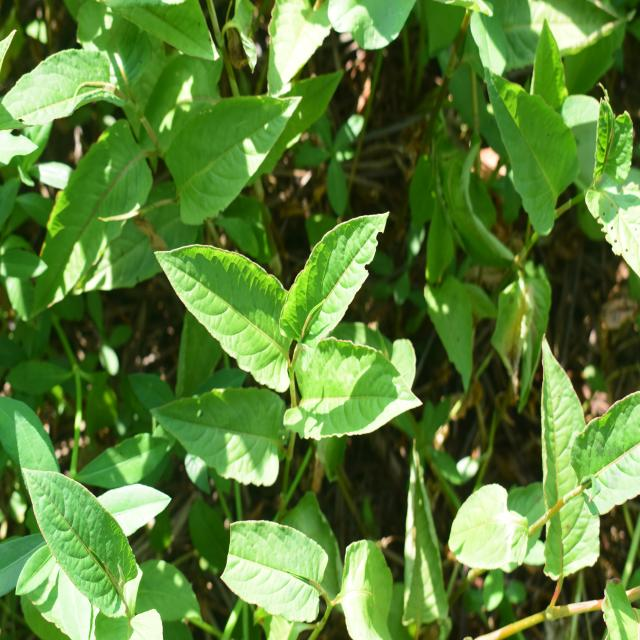Chinese_knotweed: (170, 209, 398, 498), (7, 446, 169, 620)
